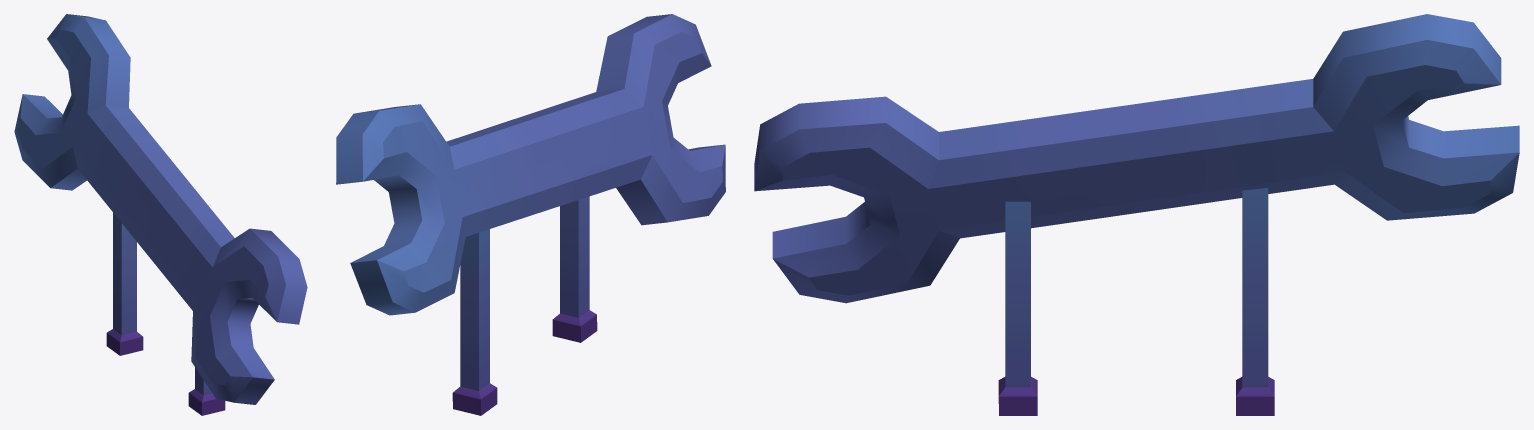
Rendered from FlatWrenchSign_1_C.fbx.
3 renders of one model, left to right at view 1: azimuth 30°, elevation 25°; view 2: azimuth 150°, elevation 25°; view 3: azimuth 270°, elevation 25°, orthographic. The views are drawn at different scales.
Visible parts, largest first — view 1: FlatWrenchSign_1_C; view 2: FlatWrenchSign_1_C; view 3: FlatWrenchSign_1_C.
Part boxes in pixels (x1=…): FlatWrenchSign_1_C: x1=14, y1=14, x2=307, y2=415; FlatWrenchSign_1_C: x1=336, y1=14, x2=725, y2=415; FlatWrenchSign_1_C: x1=754, y1=14, x2=1519, y2=415.
Bounding box in the file's own units: 85.11 × 237 × 403.
